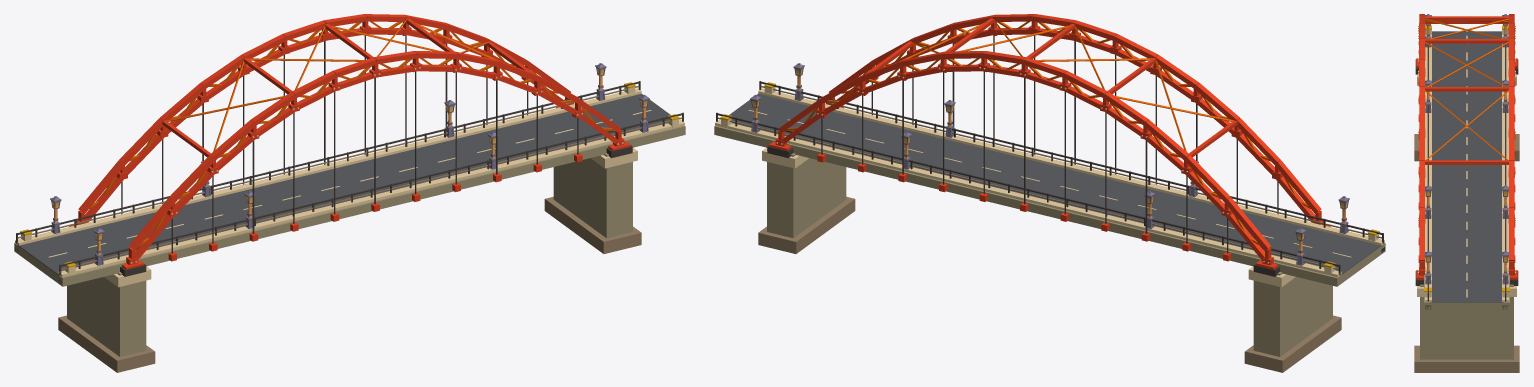
Rendered from bridge.glb.
The picture shows the model from 3 angles, left to right: view 1: azimuth 30°, elevation 25°; view 2: azimuth 150°, elevation 25°; view 3: azimuth 270°, elevation 25°; orthographic projection. The views are drawn at different scales.
Parts seen in each view (by area): view 1: Deck, Foundations, South arch, North arch, Overhead bracing, Bruno pole lights; view 2: Deck, Foundations, North arch, South arch, Overhead bracing, Bruno pole lights; view 3: Deck, Foundations, Overhead bracing, North arch, South arch, Bruno pole lights, Approach markers.
Boxes of the visible parts, x1,y1,x2,y2 form: Deck: (14, 81, 685, 286); Foundations: (58, 103, 641, 372); South arch: (126, 51, 624, 265); North arch: (76, 14, 573, 224); Overhead bracing: (162, 18, 534, 157); Bruno pole lights: (50, 63, 649, 265); Deck: (714, 81, 1385, 286); Foundations: (758, 103, 1341, 372); North arch: (775, 51, 1273, 265); South arch: (826, 14, 1323, 224); Overhead bracing: (865, 18, 1237, 157); Bruno pole lights: (750, 63, 1349, 265); Deck: (1424, 30, 1509, 310); Foundations: (1414, 58, 1519, 372); Overhead bracing: (1425, 16, 1508, 164); North arch: (1508, 14, 1515, 275); South arch: (1418, 14, 1425, 275); Bruno pole lights: (1424, 14, 1509, 284); Approach markers: (1424, 25, 1509, 298).
Bounding box in the file's own units: 64.13 × 24.29 × 10.5.
